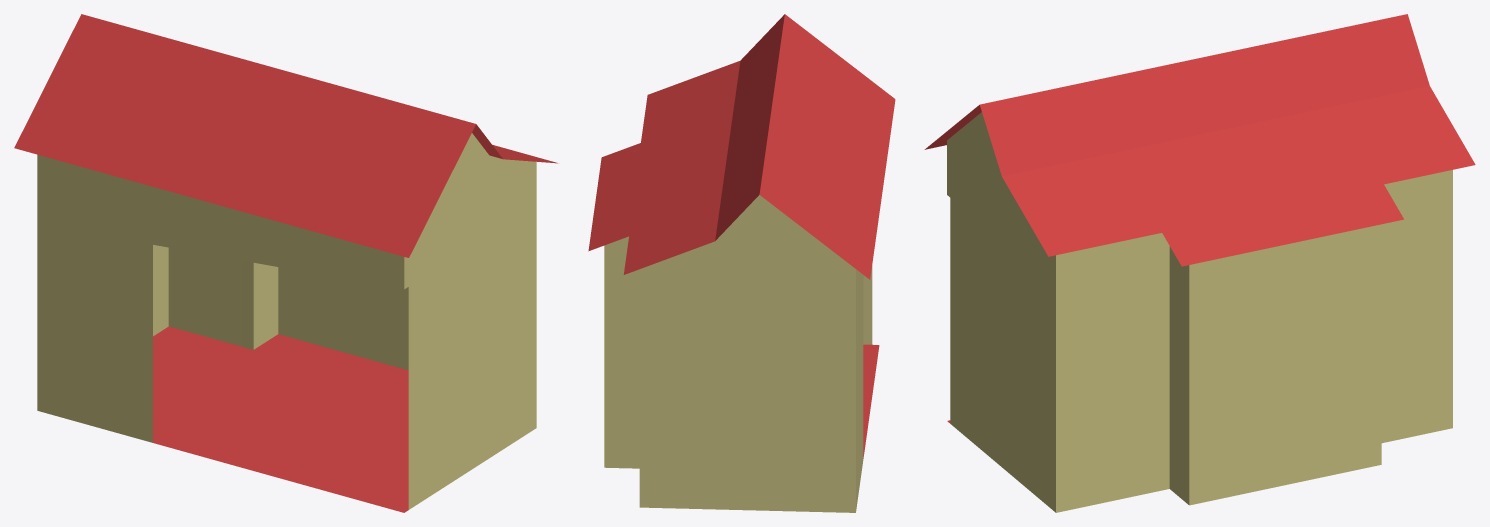
3 views of the same model, side by side, from view 1: azimuth 30°, elevation 25°; view 2: azimuth 150°, elevation 25°; view 3: azimuth 270°, elevation 25° (orthographic). The views are drawn at different scales.
Bounding box in the file's own units: 13.66 × 16.29 × 11.73.
